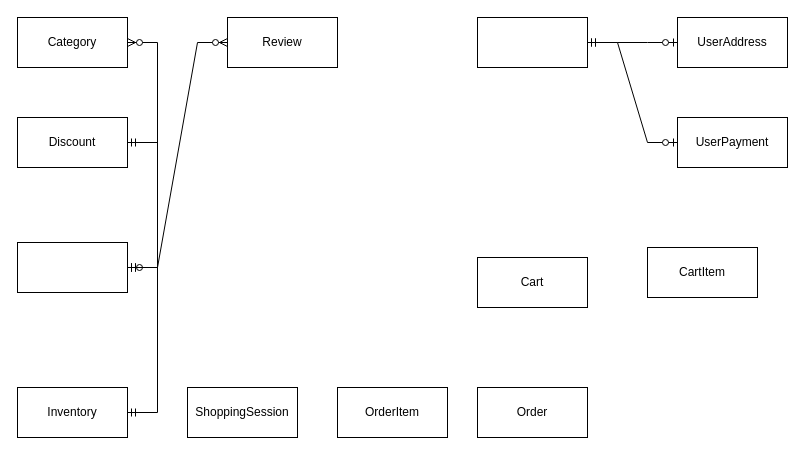
Some shapes in this 805 by 455 pixel diagram are drawn without their labels. The box of each missing label's shape, as (x1, y1, x2, y2) in pixels:
Product: (16, 242, 128, 292)
User: (476, 16, 588, 68)
